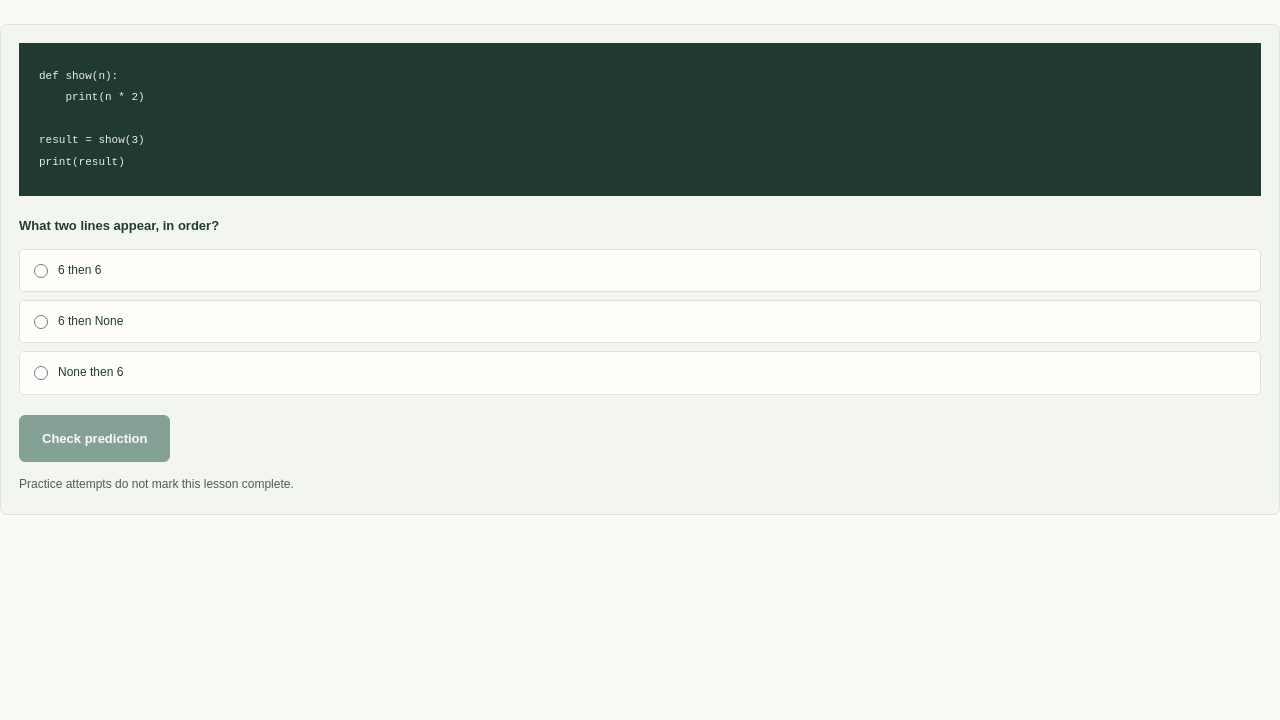
Test case: interactive teaching › shows incorrect and correct prediction feedback, resets, and never writes progress
Expected: the button "Check prediction" is disabled, x1=19 y1=414 x2=170 y2=462
Click the radio button labelled "6 then 6" at (41, 271), box x1=34 y1=264 x2=48 y2=278
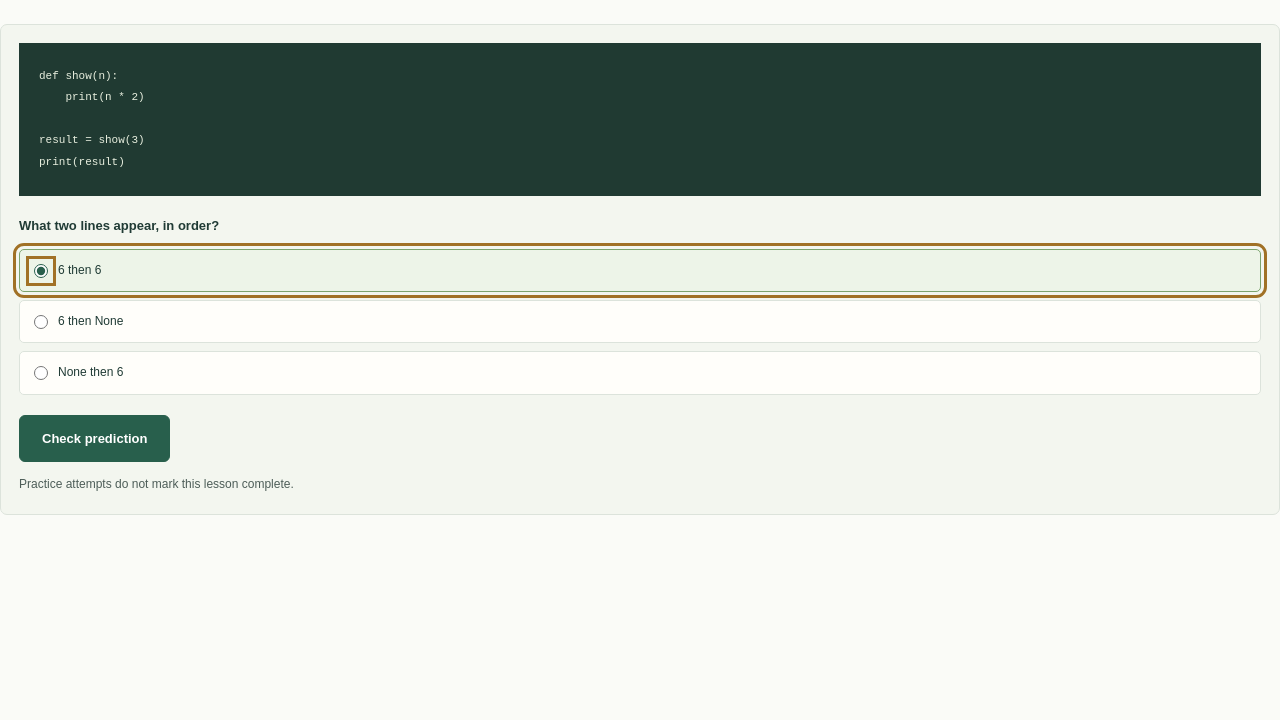
Click the button "Check prediction" at (95, 438), box x1=19 y1=414 x2=170 y2=462
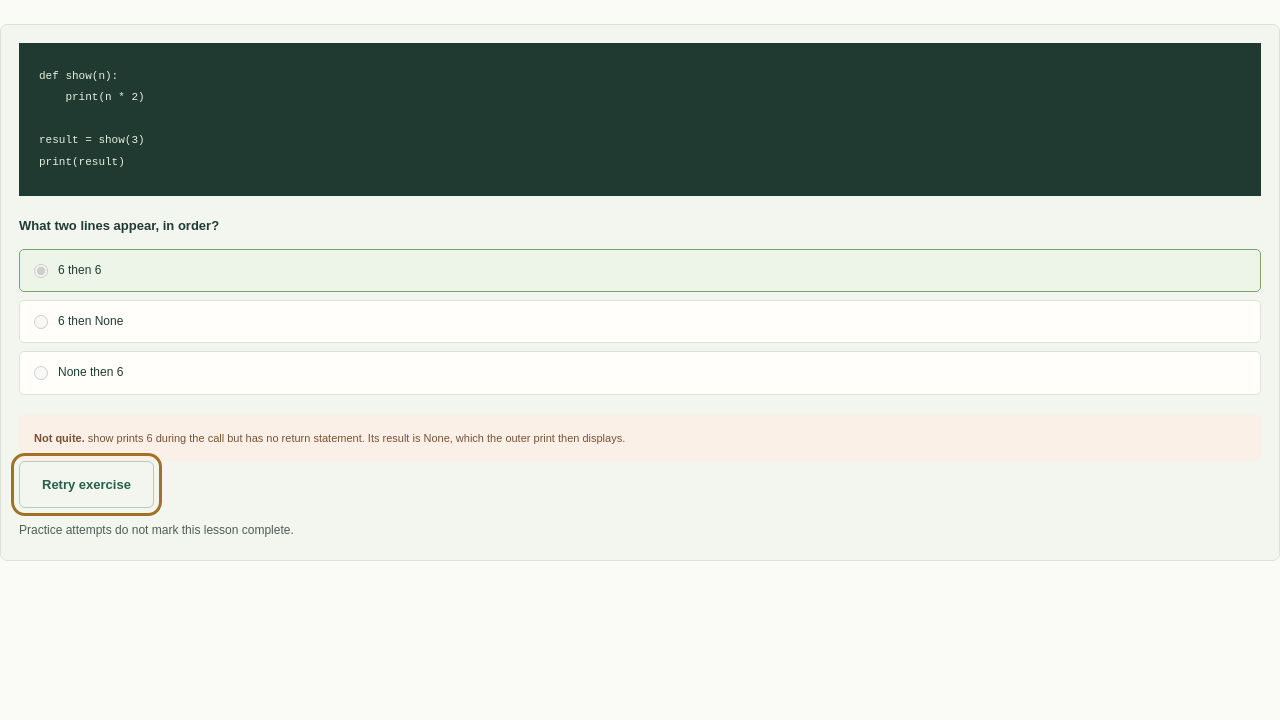
Result: the message shows "Not quite." at x1=34 y1=432 x2=85 y2=444
Result: the message shows "show prints 6 during the call but has no return statement. Its result is None, which the outer print then displays." at x1=88 y1=432 x2=625 y2=444
Click the button "Retry exercise" at (86, 485), box x1=19 y1=461 x2=154 y2=508
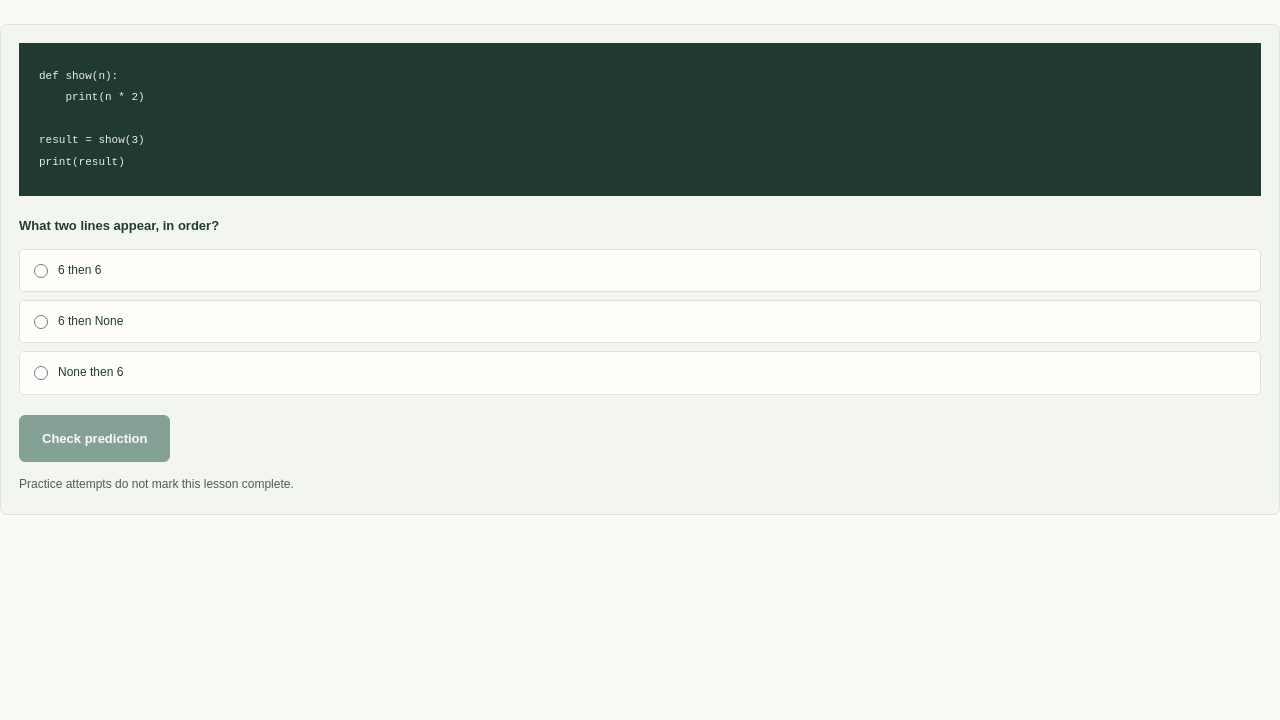
Result: the button "Check prediction" is disabled at x1=19 y1=414 x2=170 y2=462
Click the radio button labelled "6 then None" at (41, 322), box x1=34 y1=315 x2=48 y2=329
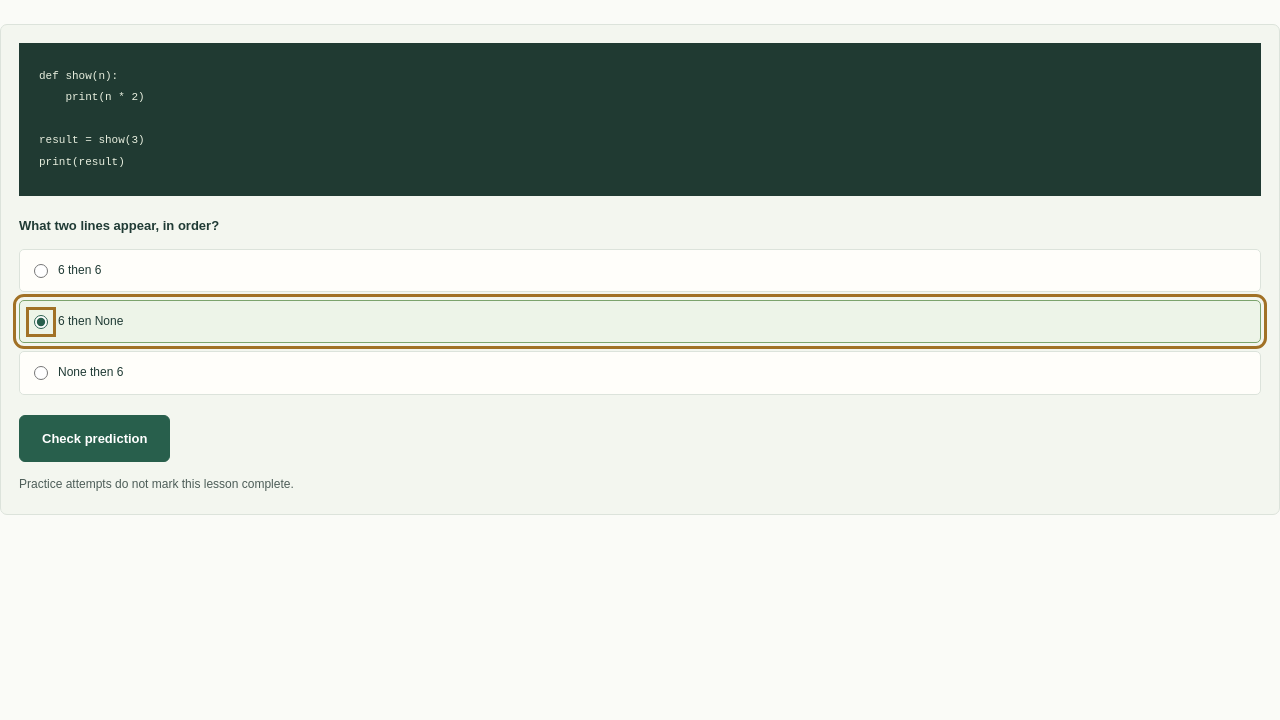
Click the button "Check prediction" at (95, 438), box x1=19 y1=414 x2=170 y2=462
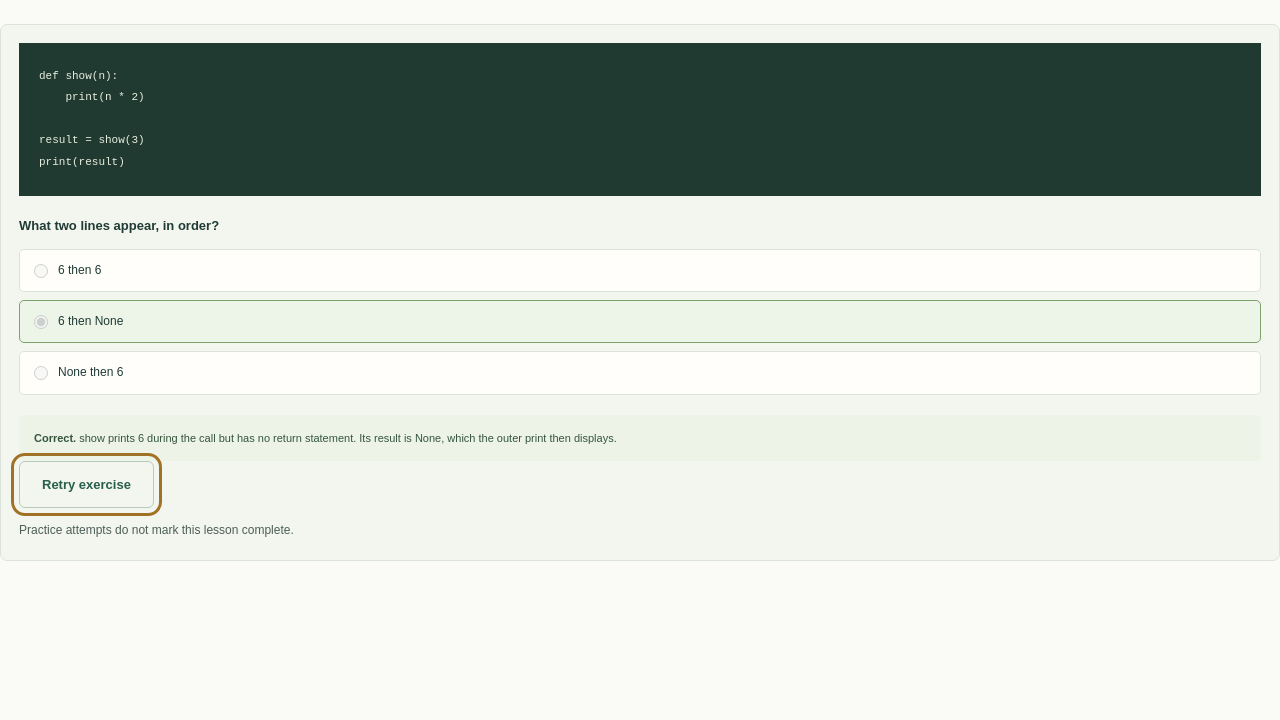
Result: the message shows "Correct." at x1=34 y1=432 x2=76 y2=444
